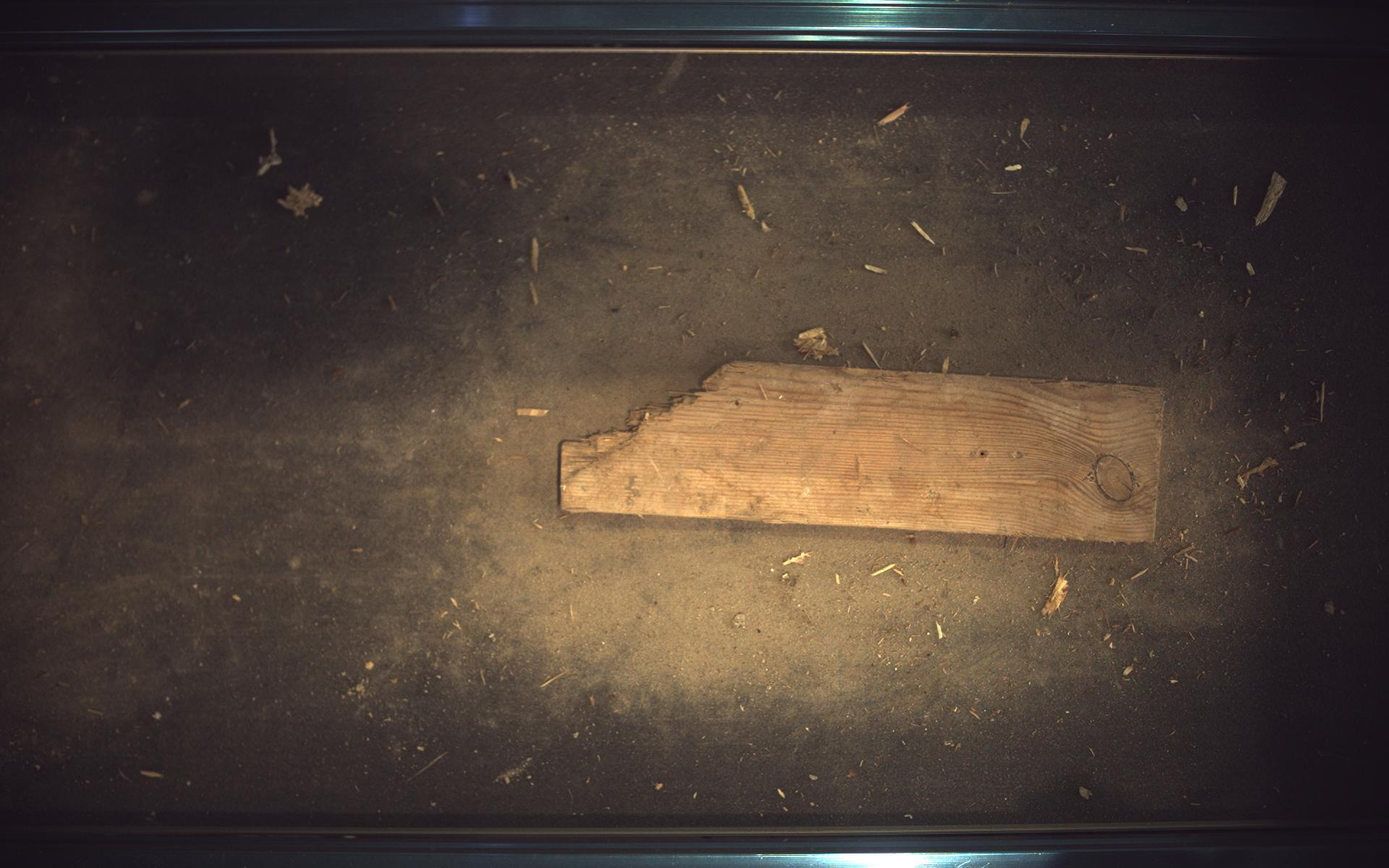wood: (561, 362, 1166, 542)
